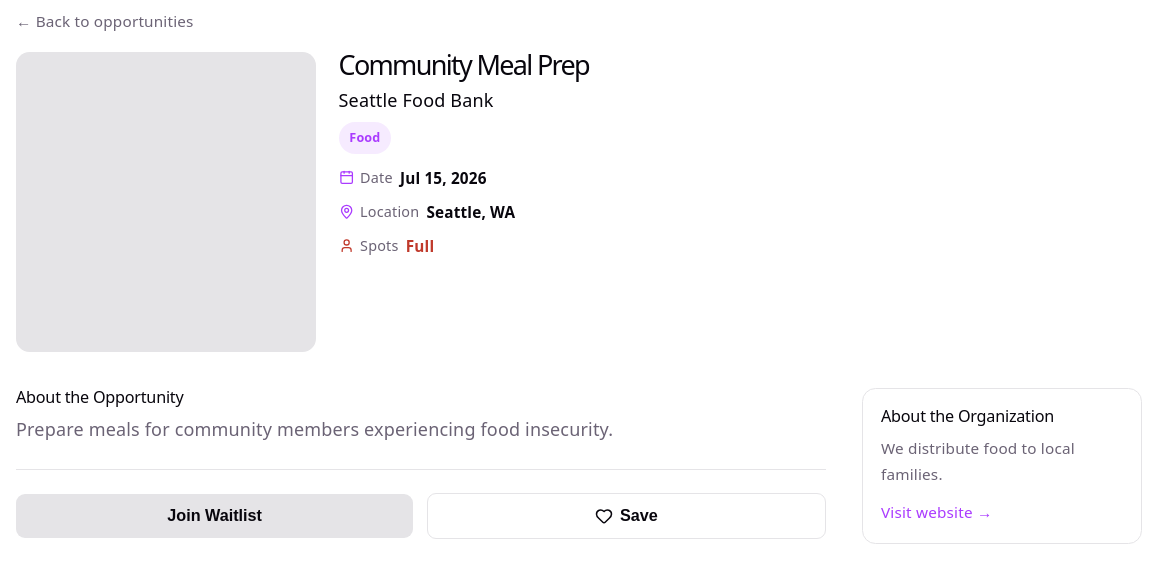
Test: OpportunityDetailsPage › joins the waitlist when the volunteer clicks Join Waitlist
Click the button "Join Waitlist". click: (215, 516)
box: [16, 494, 413, 538]
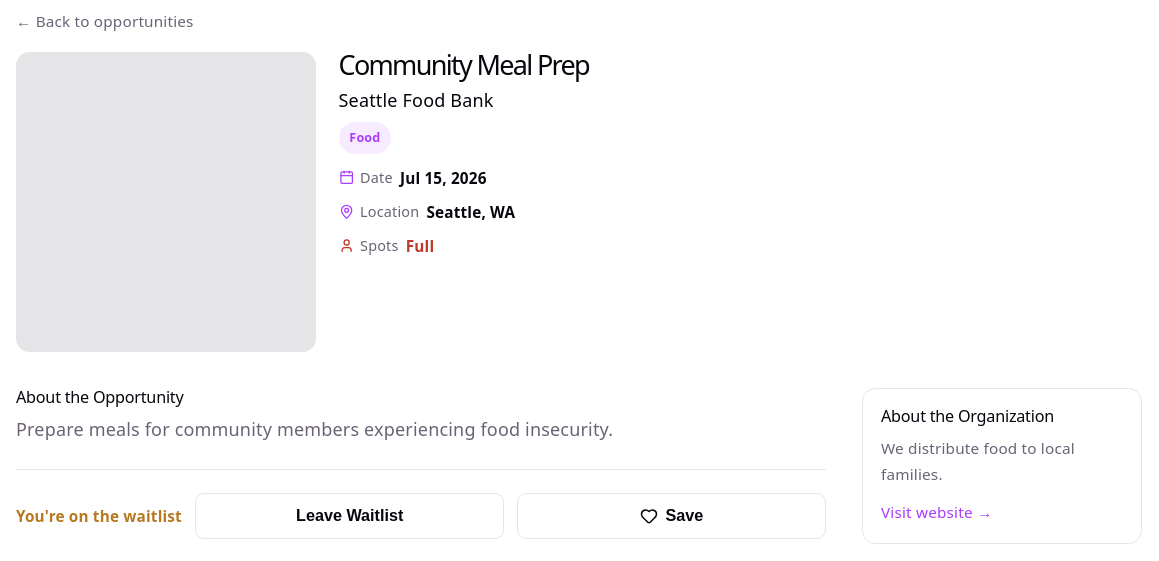
Now the button "Leave Waitlist" is shown, box [196, 493, 504, 539]
Now the text "You're on the waitlist" is shown, box [16, 503, 182, 529]
